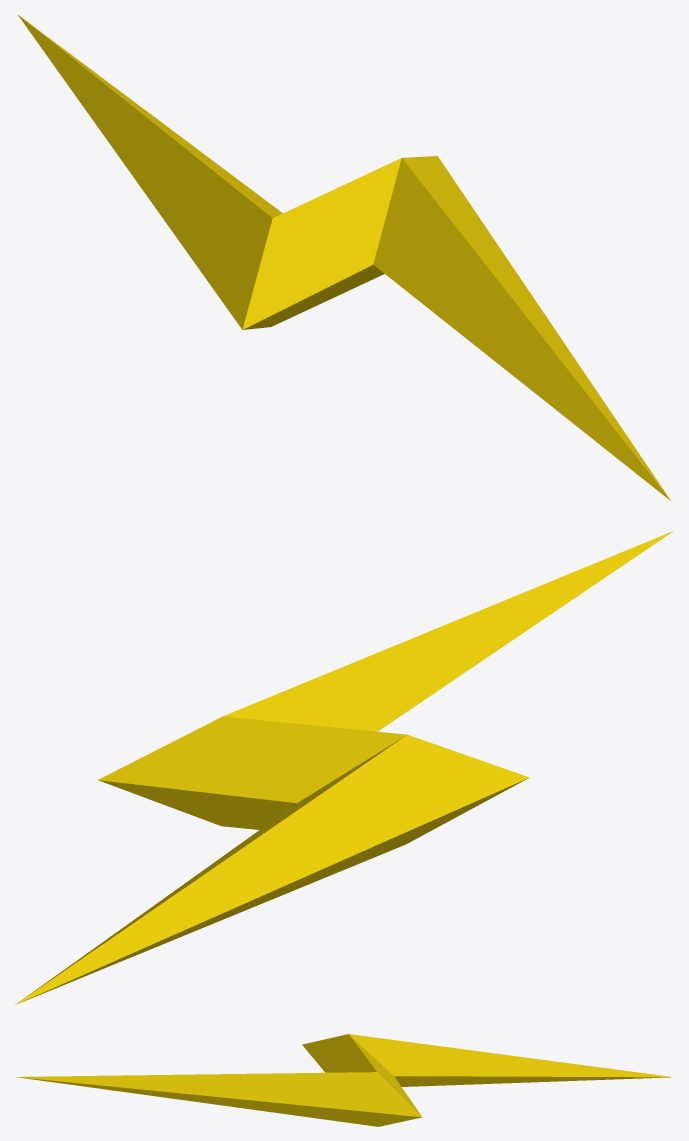
The model's file is castObj_thunder.fbx.
3 renders of one model, top to bottom at view 1: azimuth 30°, elevation 25°; view 2: azimuth 150°, elevation 25°; view 3: azimuth 270°, elevation 25°, orthographic. The views are drawn at different scales.
Parts seen in each view (by area): view 1: castObj_thunder; view 2: castObj_thunder; view 3: castObj_thunder.
Part boxes in pixels (x1=…): castObj_thunder: x1=18, y1=15, x2=671, y2=501; castObj_thunder: x1=15, y1=531, x2=673, y2=1004; castObj_thunder: x1=16, y1=1034, x2=673, y2=1126.
Size of the model in its own units: 0.3046 by 0.102 by 1.1.
